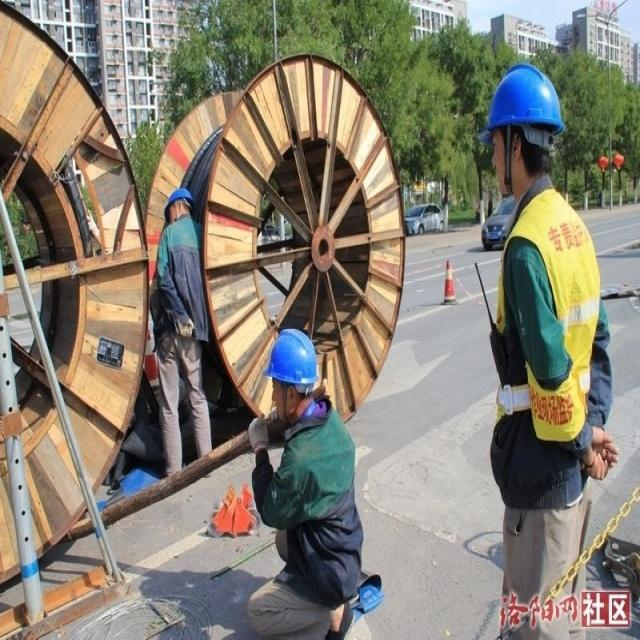helmet: (481, 81, 565, 267), (265, 433, 321, 571), (161, 248, 195, 304)
vest: (485, 269, 619, 639)
